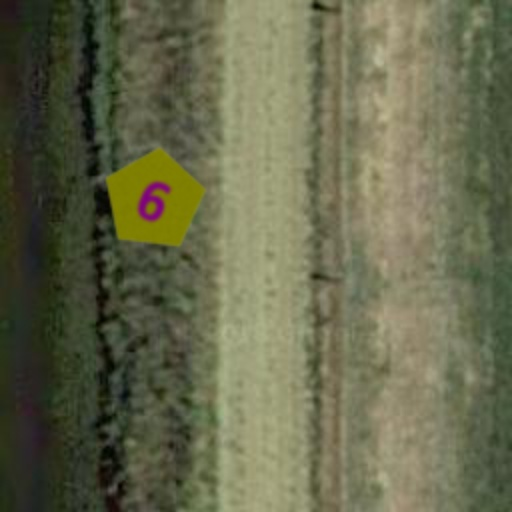pentagon: (82, 128, 226, 272)
